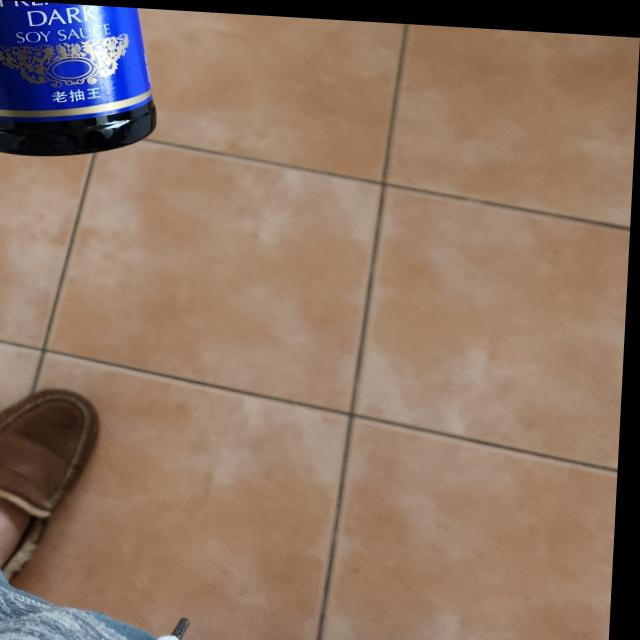soy sauce: (0, 0, 163, 161)
